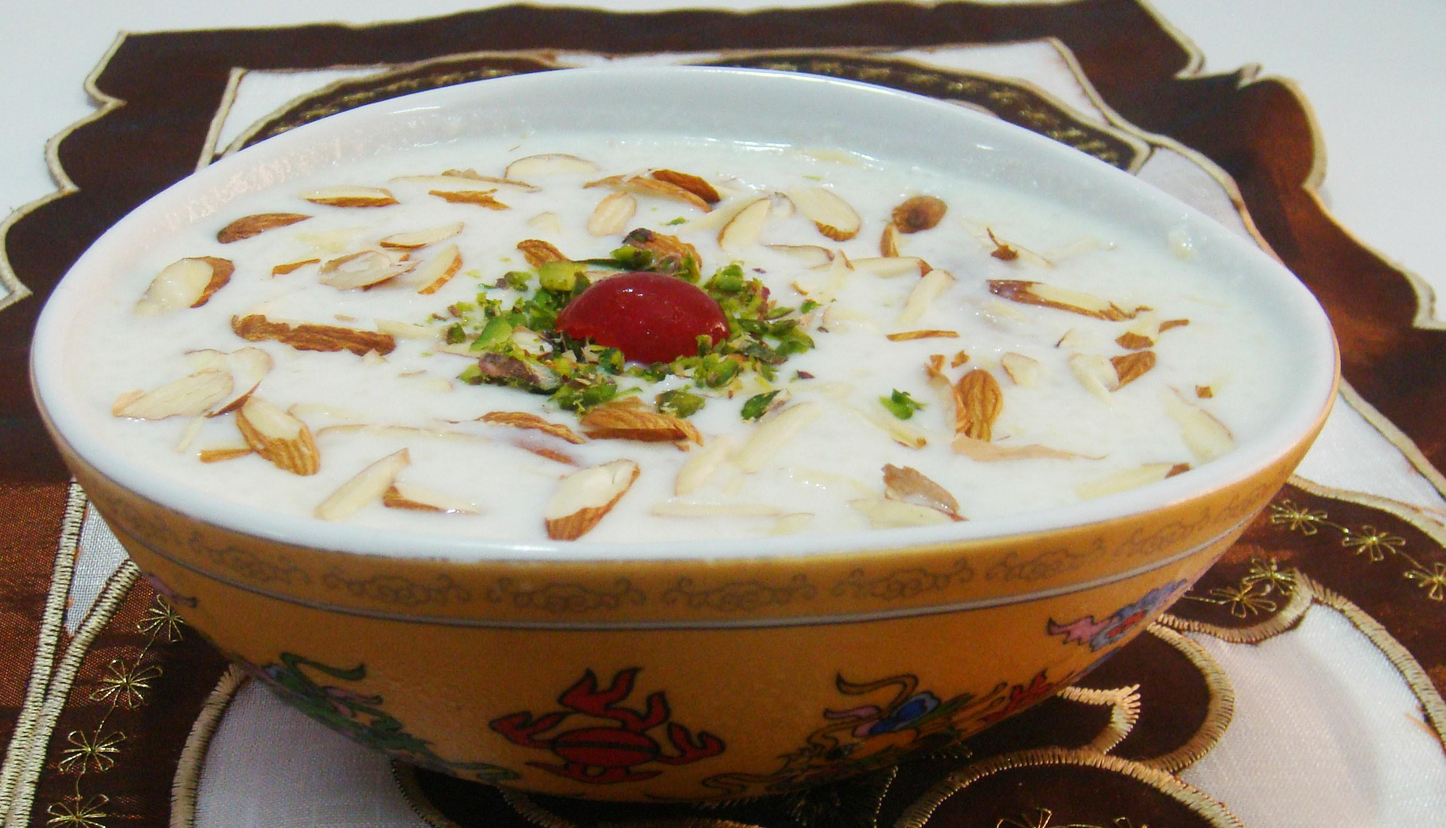Kheer: (66, 128, 1289, 551)
